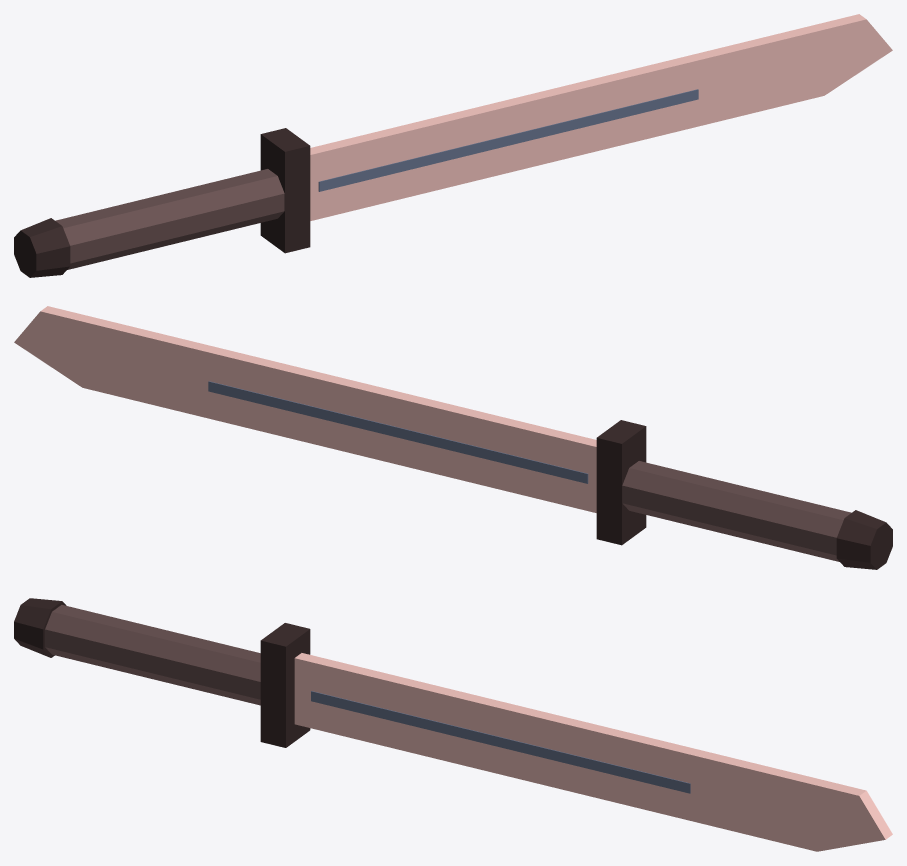
File: persona_monosword.obj
The picture shows the model from 3 angles, top to bottom: view 1: azimuth 30°, elevation 25°; view 2: azimuth 150°, elevation 25°; view 3: azimuth 330°, elevation 25°; orthographic projection.
Parts seen in each view (by area): view 1: persona_monosword; view 2: persona_monosword; view 3: persona_monosword.
Part boxes in pixels (left/top/right/bottom): persona_monosword: left=14, top=14, right=892, bottom=277; persona_monosword: left=14, top=306, right=892, bottom=569; persona_monosword: left=14, top=598, right=892, bottom=851.
Bounding box in the file's own units: 0.82 × 0.092 × 0.0443.
